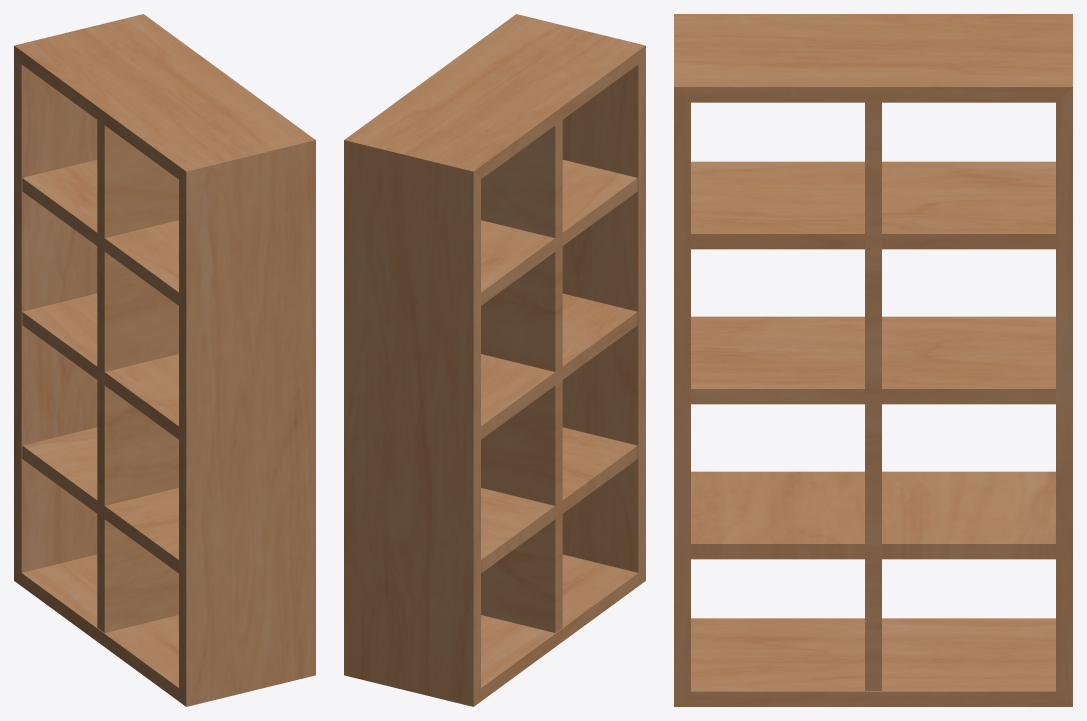
The model's file is estante.fbx.
The picture shows the model from 3 angles, left to right: view 1: azimuth 30°, elevation 25°; view 2: azimuth 150°, elevation 25°; view 3: azimuth 270°, elevation 25°; orthographic projection. The views are drawn at different scales.
Parts seen in each view (by area): view 1: estante; view 2: estante; view 3: estante.
Part boxes in pixels (left/top/right/bottom): estante: left=14, top=14, right=315, bottom=706; estante: left=344, top=14, right=645, bottom=706; estante: left=674, top=14, right=1072, bottom=706.
Bounding box in the file's own units: 0.3037 × 0.7 × 1.2.
